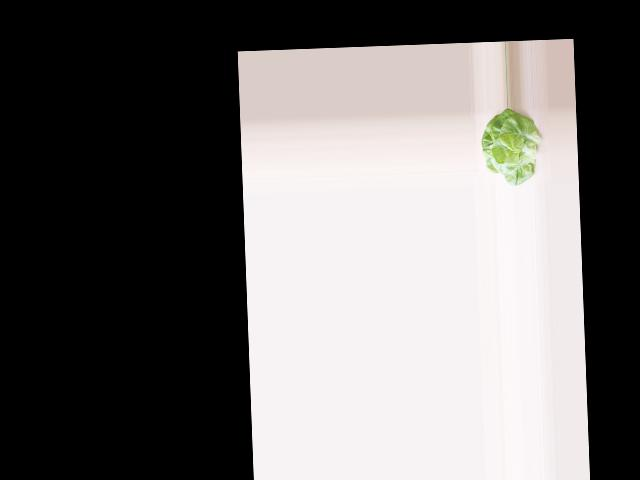lettuce: (480, 108, 540, 184)
